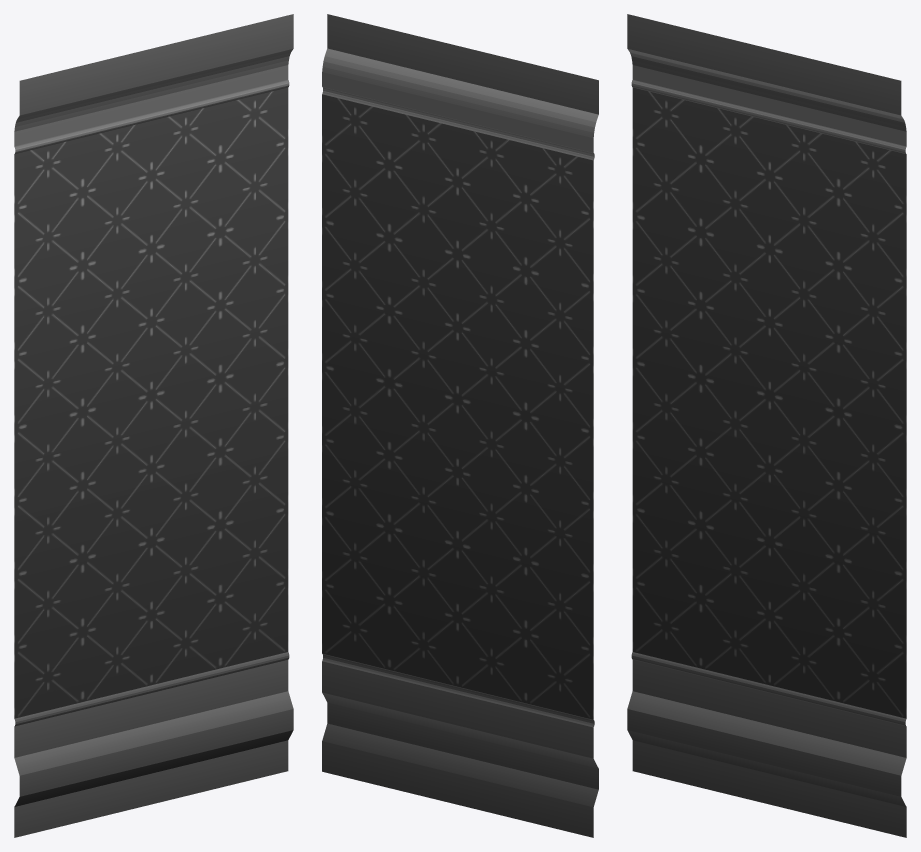
File: Wall_02_Single_Light.fbx
3 renders of one model, left to right at view 1: azimuth 30°, elevation 25°; view 2: azimuth 150°, elevation 25°; view 3: azimuth 330°, elevation 25°, orthographic.
Parts seen in each view (by area): view 1: Wall_02_Single_Light; view 2: Wall_02_Single_Light; view 3: Wall_02_Single_Light.
Boxes of the visible parts, x1,y1,x2,y2 form: Wall_02_Single_Light: (14,14,293,837); Wall_02_Single_Light: (322,14,598,837); Wall_02_Single_Light: (627,14,906,837).
Bounding box in the file's own units: 0.9999 × 2.65 × 0.0329.
